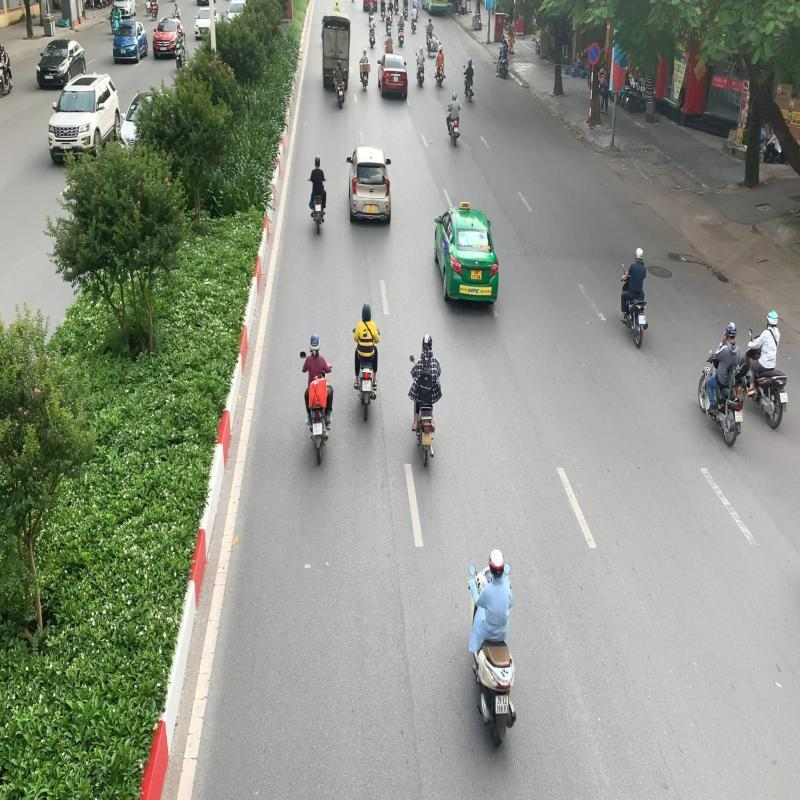helmet: (488, 547, 506, 572), (309, 332, 321, 354), (422, 334, 433, 351)
licenseplate: (494, 693, 510, 717), (312, 422, 323, 436)
motorcyclist: (464, 546, 526, 752), (406, 331, 448, 466), (298, 332, 336, 466)
